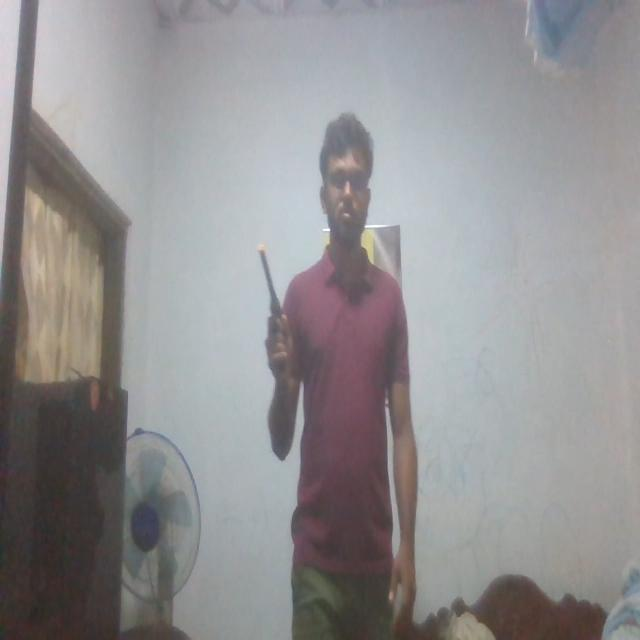Gun_Holder: (255, 249, 295, 382)
Person: (254, 113, 418, 640)
